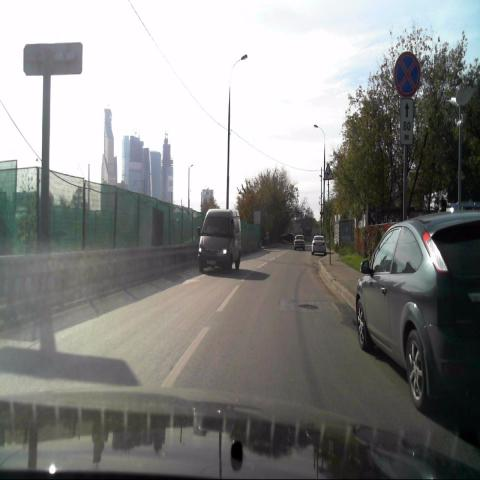1_12: (323, 162, 336, 180)
3_27: (392, 48, 421, 96)
8_2_2: (400, 96, 413, 147)
